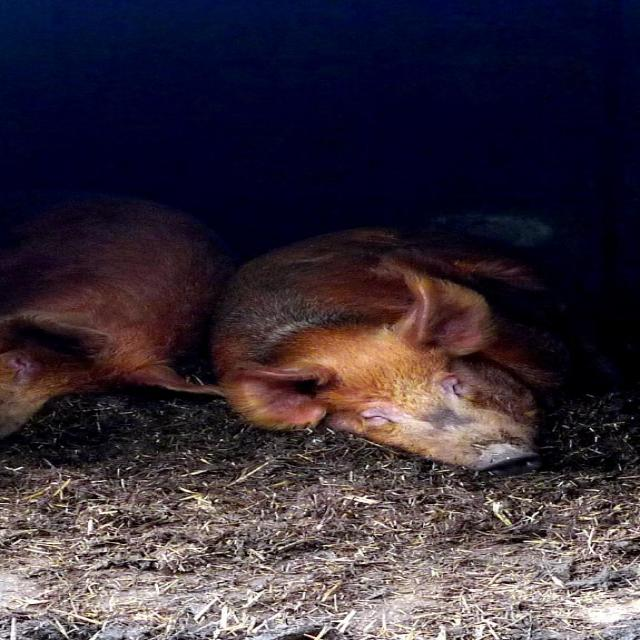Pig: (204, 228, 575, 477), (0, 188, 226, 438)
